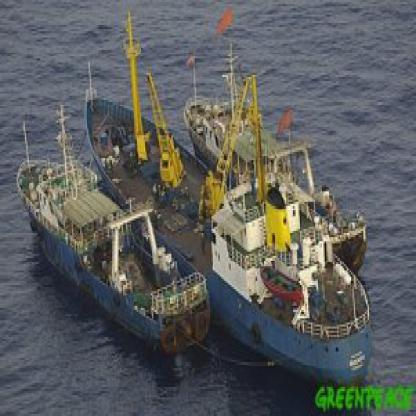fish-b: (14, 100, 216, 360), (181, 23, 370, 272)
